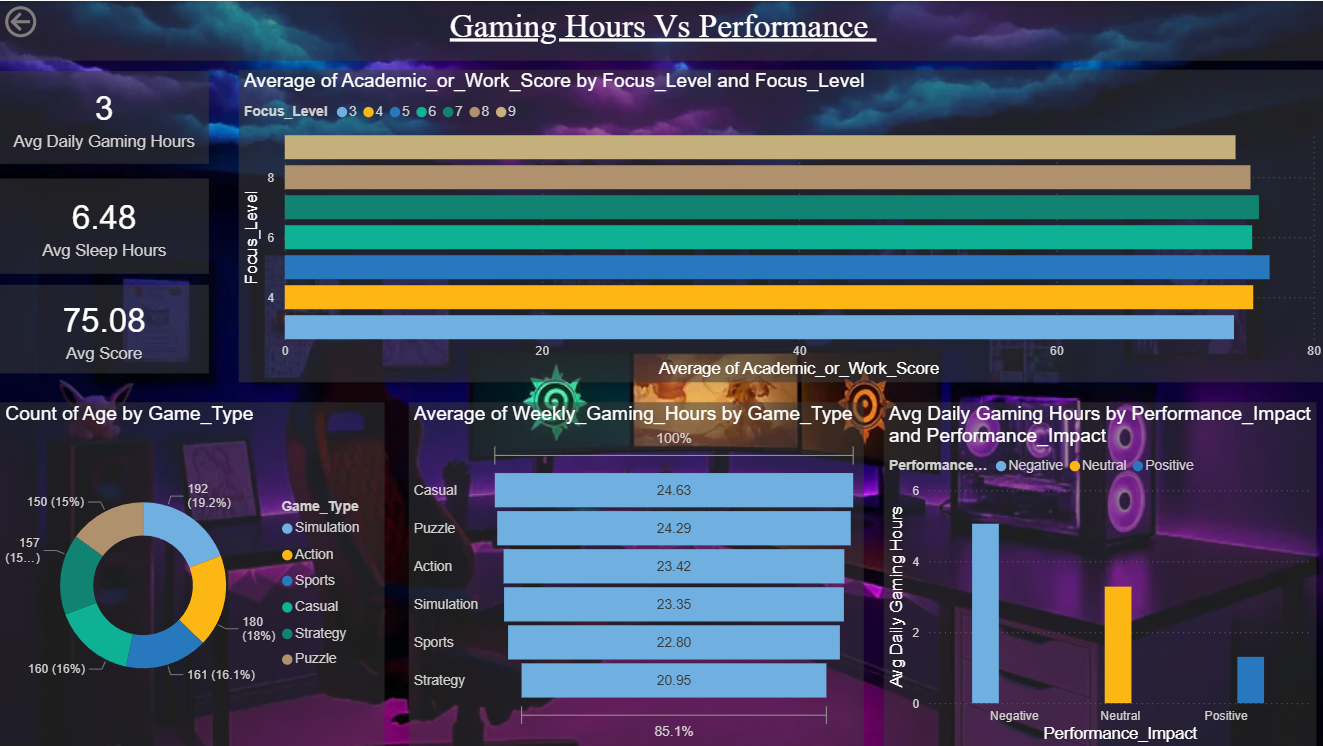

The dashboard page shown, as its layout file describes it:
{"tool":"powerbi","page":{"name":"Page 1","canvas":[1280,720],"ordinal":0},"visuals":[{"type":"card","fields":{"Values":["Gaming_Hours_vs_Performance_1000_Rows.Avg Daily Gaming"]},"box":[0,67.6,201.5,89.3],"z":0},{"type":"card","fields":{"Values":["Gaming_Hours_vs_Performance_1000_Rows.Avg Score"]},"box":[0,273.9,201.5,85.7],"z":1000},{"type":"card","fields":{"Values":["Gaming_Hours_vs_Performance_1000_Rows.Avg Sleep Hours"]},"box":[0,171.3,201.5,91.7],"z":2000},{"type":"actionButton","box":[0,0,100,40],"z":3000},{"type":"clusteredColumnChart","fields":{"Category":["Gaming_Hours_vs_Performance_1000_Rows.Performance_Impact"],"Y":["Gaming_Hours_vs_Performance_1000_Rows.Avg Daily Gaming"],"Series":["Gaming_Hours_vs_Performance_1000_Rows.Performance_Impact"]},"box":[853,387.3,417.4,333],"z":4000},{"type":"barChart","fields":{"Category":["Gaming_Hours_vs_Performance_1000_Rows.Focus_Level"],"Y":["Avg(Gaming_Hours_vs_Performance_1000_Rows.Academic_or_Work_Score)"],"Series":["Gaming_Hours_vs_Performance_1000_Rows.Focus_Level"]},"box":[230.4,66.4,1049.6,301.6],"z":5000},{"type":"donutChart","fields":{"Category":["Gaming_Hours_vs_Performance_1000_Rows.Game_Type"],"Y":["CountNonNull(Gaming_Hours_vs_Performance_1000_Rows.Age)"]},"box":[0,387.3,371.6,333],"z":6000},{"type":"funnel","fields":{"Category":["Gaming_Hours_vs_Performance_1000_Rows.Game_Type"],"Y":["Avg(Gaming_Hours_vs_Performance_1000_Rows.Weekly_Gaming_Hours)"]},"box":[394.5,387.3,439.1,333],"z":7000},{"type":"textbox","box":[0,0,1280,57.9],"z":8000}]}

Visuals, with their boxes in screenshot pixels (x1, y1, x2, y2), scaled from the page's 1280x720 canvas onto the 1323x746 screenshot:
card - Gaming_Hours_vs_Performance_1000_Rows.Avg Daily Gaming: <box>0,70,208,163</box>
card - Gaming_Hours_vs_Performance_1000_Rows.Avg Score: <box>0,284,208,373</box>
card - Gaming_Hours_vs_Performance_1000_Rows.Avg Sleep Hours: <box>0,177,208,272</box>
actionButton: <box>0,0,103,41</box>
clusteredColumnChart - Gaming_Hours_vs_Performance_1000_Rows.Performance_Impact x Gaming_Hours_vs_Performance_1000_Rows.Avg Daily Gaming: <box>882,401,1313,745</box>
barChart - Gaming_Hours_vs_Performance_1000_Rows.Focus_Level x Avg(Gaming_Hours_vs_Performance_1000_Rows.Academic_or_Work_Score): <box>238,69,1322,381</box>
donutChart - Gaming_Hours_vs_Performance_1000_Rows.Game_Type x CountNonNull(Gaming_Hours_vs_Performance_1000_Rows.Age): <box>0,401,384,745</box>
funnel - Gaming_Hours_vs_Performance_1000_Rows.Game_Type x Avg(Gaming_Hours_vs_Performance_1000_Rows.Weekly_Gaming_Hours): <box>408,401,862,745</box>
textbox: <box>0,0,1322,60</box>
